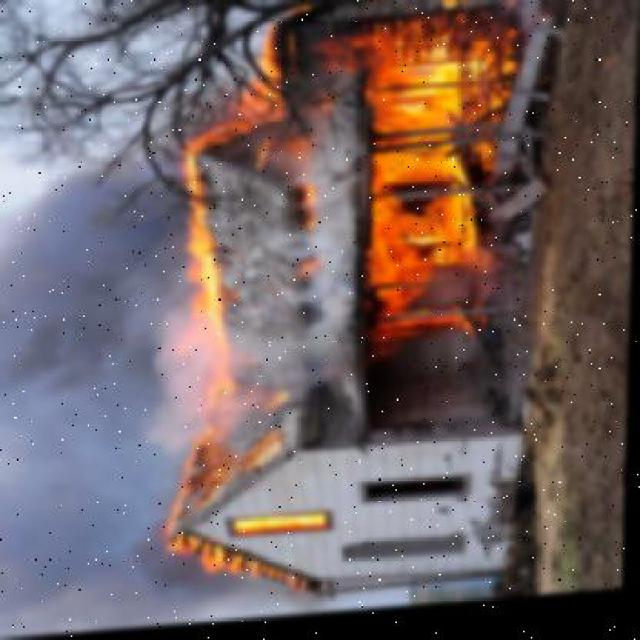fire: (211, 1, 540, 387)
